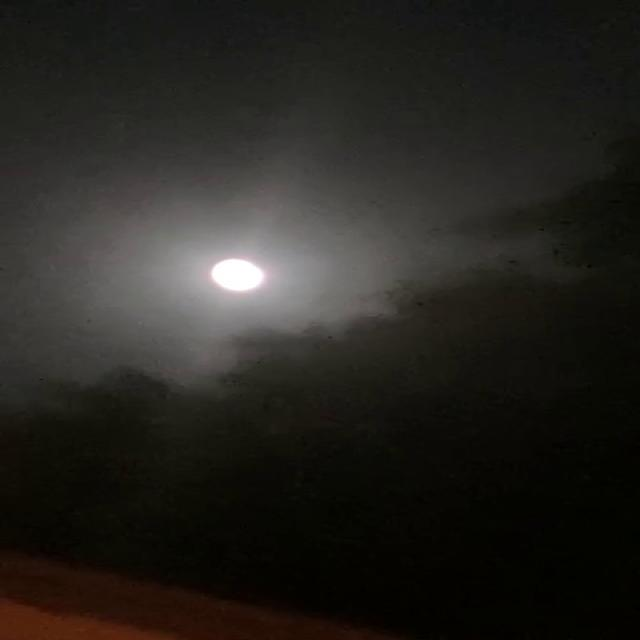moon: (210, 258, 294, 302)
